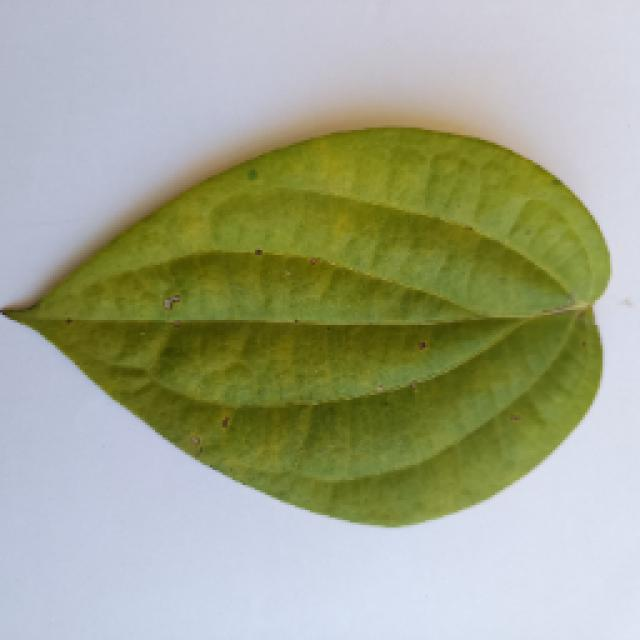slow-decline: (3, 125, 605, 527)
